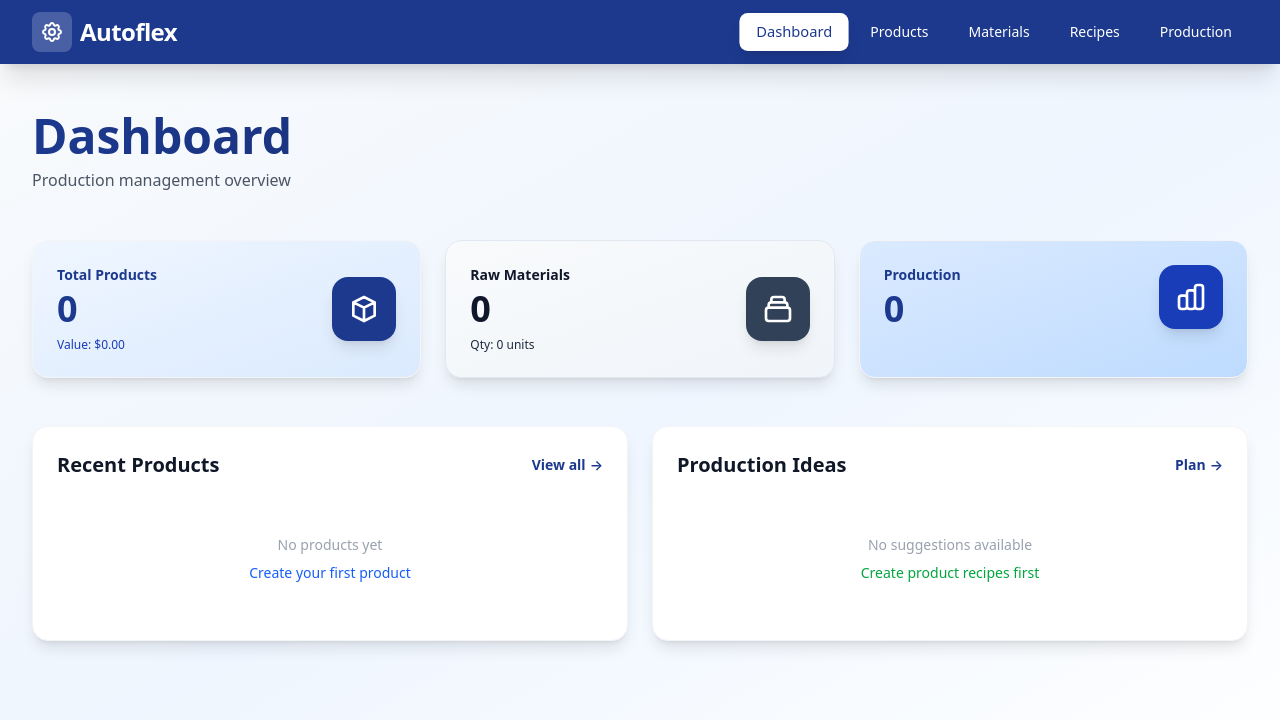
Frontend Vue - Navigation › Navbar Link Navigation › should navigate to Recipes page via navbar
This screenshot has width=1280, height=720.
Click the link "Recipes".
click(1095, 32)  # box [1070, 22, 1120, 41]
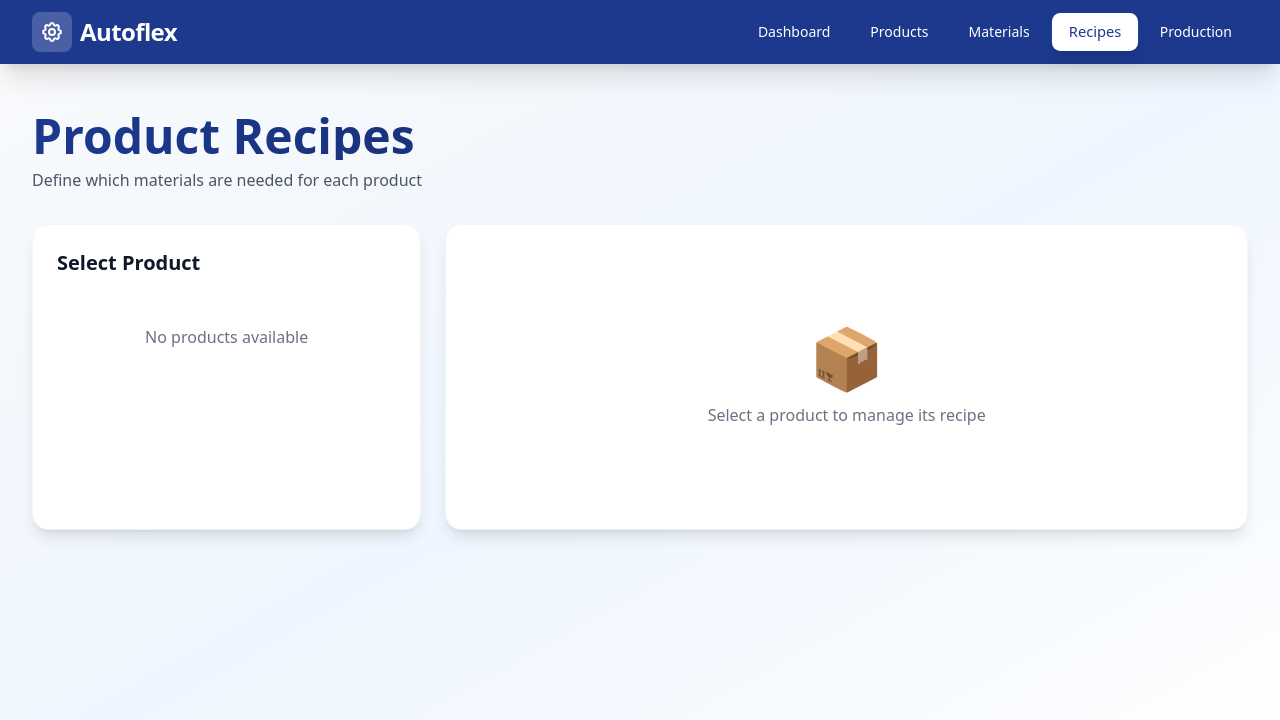
Expected: the heading "Product Recipes" is shown, [32, 112, 1248, 160]
